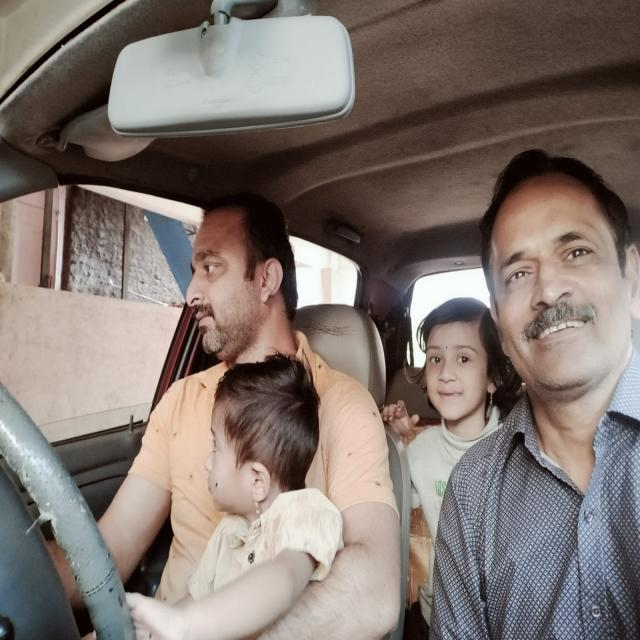child: (200, 352, 317, 526)
person: (480, 148, 640, 423), (180, 178, 307, 359), (415, 291, 505, 425)
